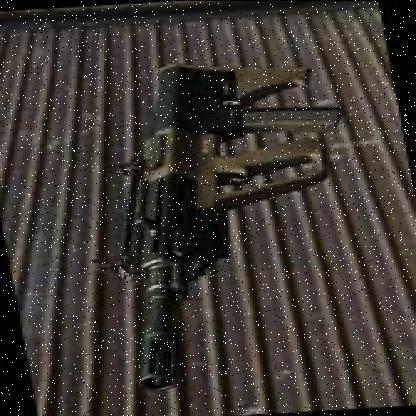rifle: (64, 54, 404, 402)
